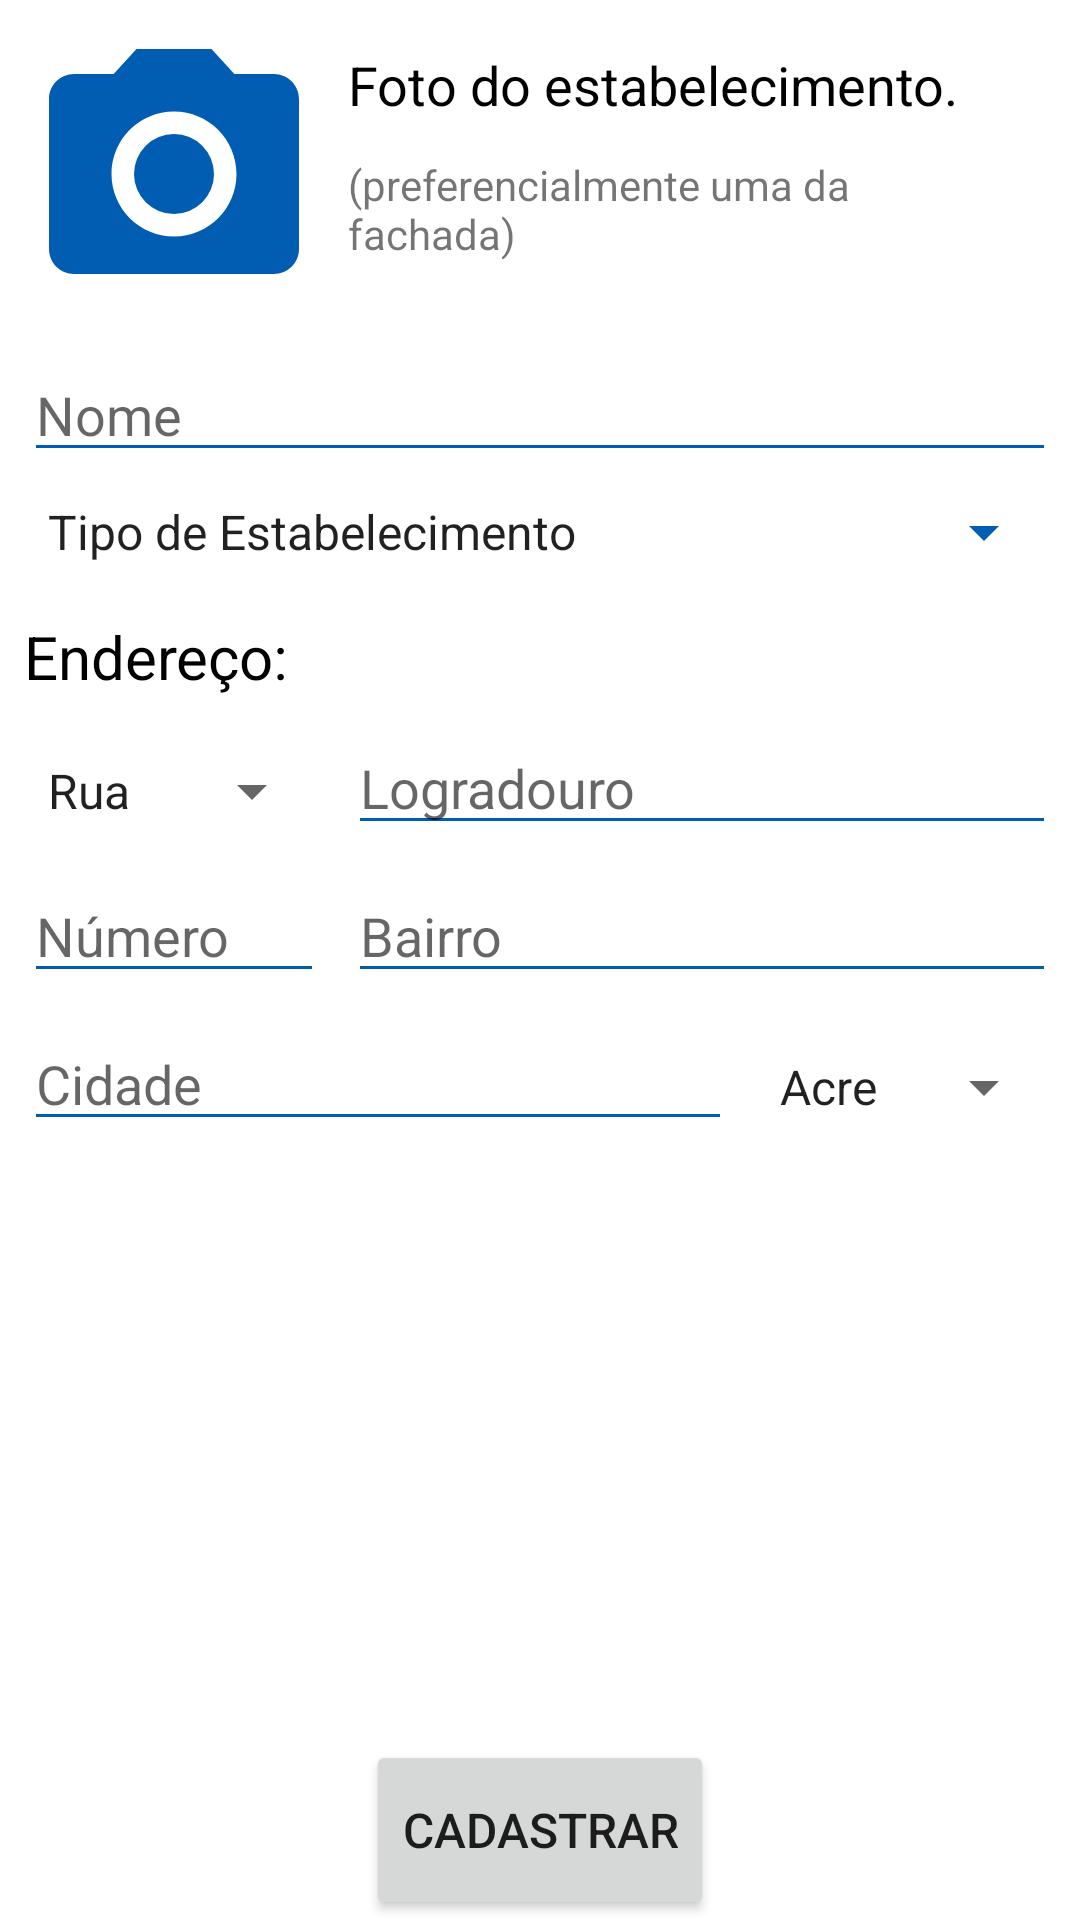

Where icons sit on this 1080*1920 app screen, as (x1, y1, x2, y2):
photo camera: (49, 49, 299, 274)
